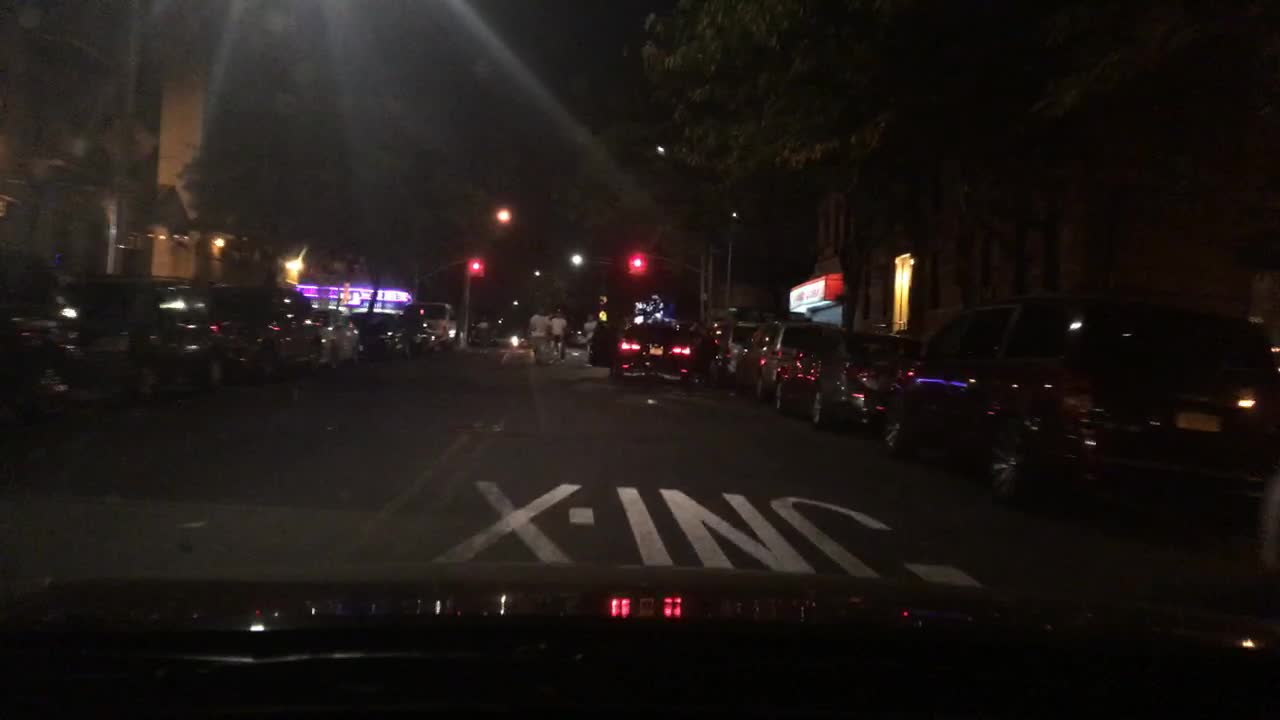car: (879, 295, 1279, 511), (64, 273, 236, 405), (0, 245, 87, 437), (771, 331, 916, 427), (207, 280, 324, 386), (727, 319, 825, 401), (609, 320, 693, 388), (707, 319, 761, 386), (312, 305, 366, 368), (1254, 472, 1279, 602), (349, 310, 408, 361), (408, 297, 460, 341), (400, 310, 444, 354), (695, 315, 732, 363), (585, 324, 624, 363), (469, 319, 499, 347)
person: (525, 302, 552, 366), (546, 305, 563, 363), (580, 309, 595, 347)
traffic light: (469, 255, 482, 278), (631, 253, 643, 273)
traffic sign: (94, 110, 158, 172), (597, 307, 607, 322)
